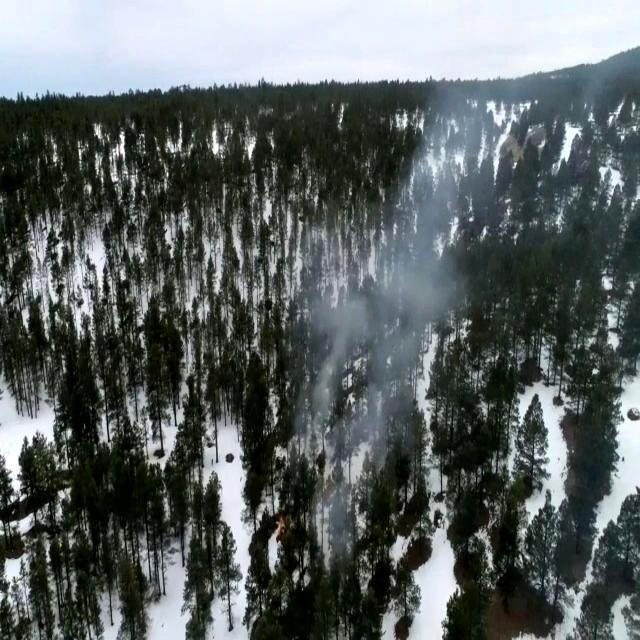Smoke: (369, 70, 494, 395), (300, 234, 399, 551)
